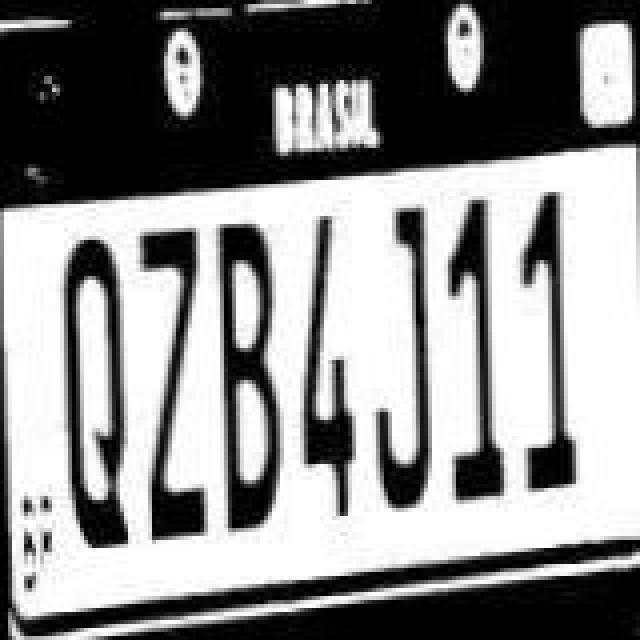1: (506, 188, 586, 492), (434, 194, 506, 506)
4: (292, 214, 360, 522)
B: (206, 222, 286, 534)
J: (364, 204, 432, 512)
Q: (62, 232, 138, 544)
Z: (138, 218, 206, 538)
